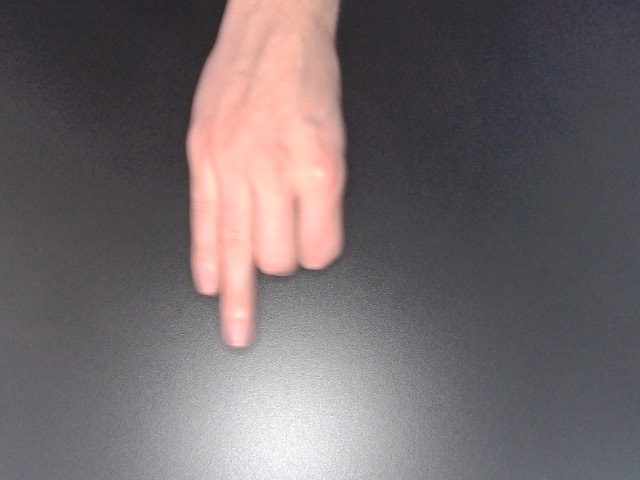n: (178, 2, 354, 361)
